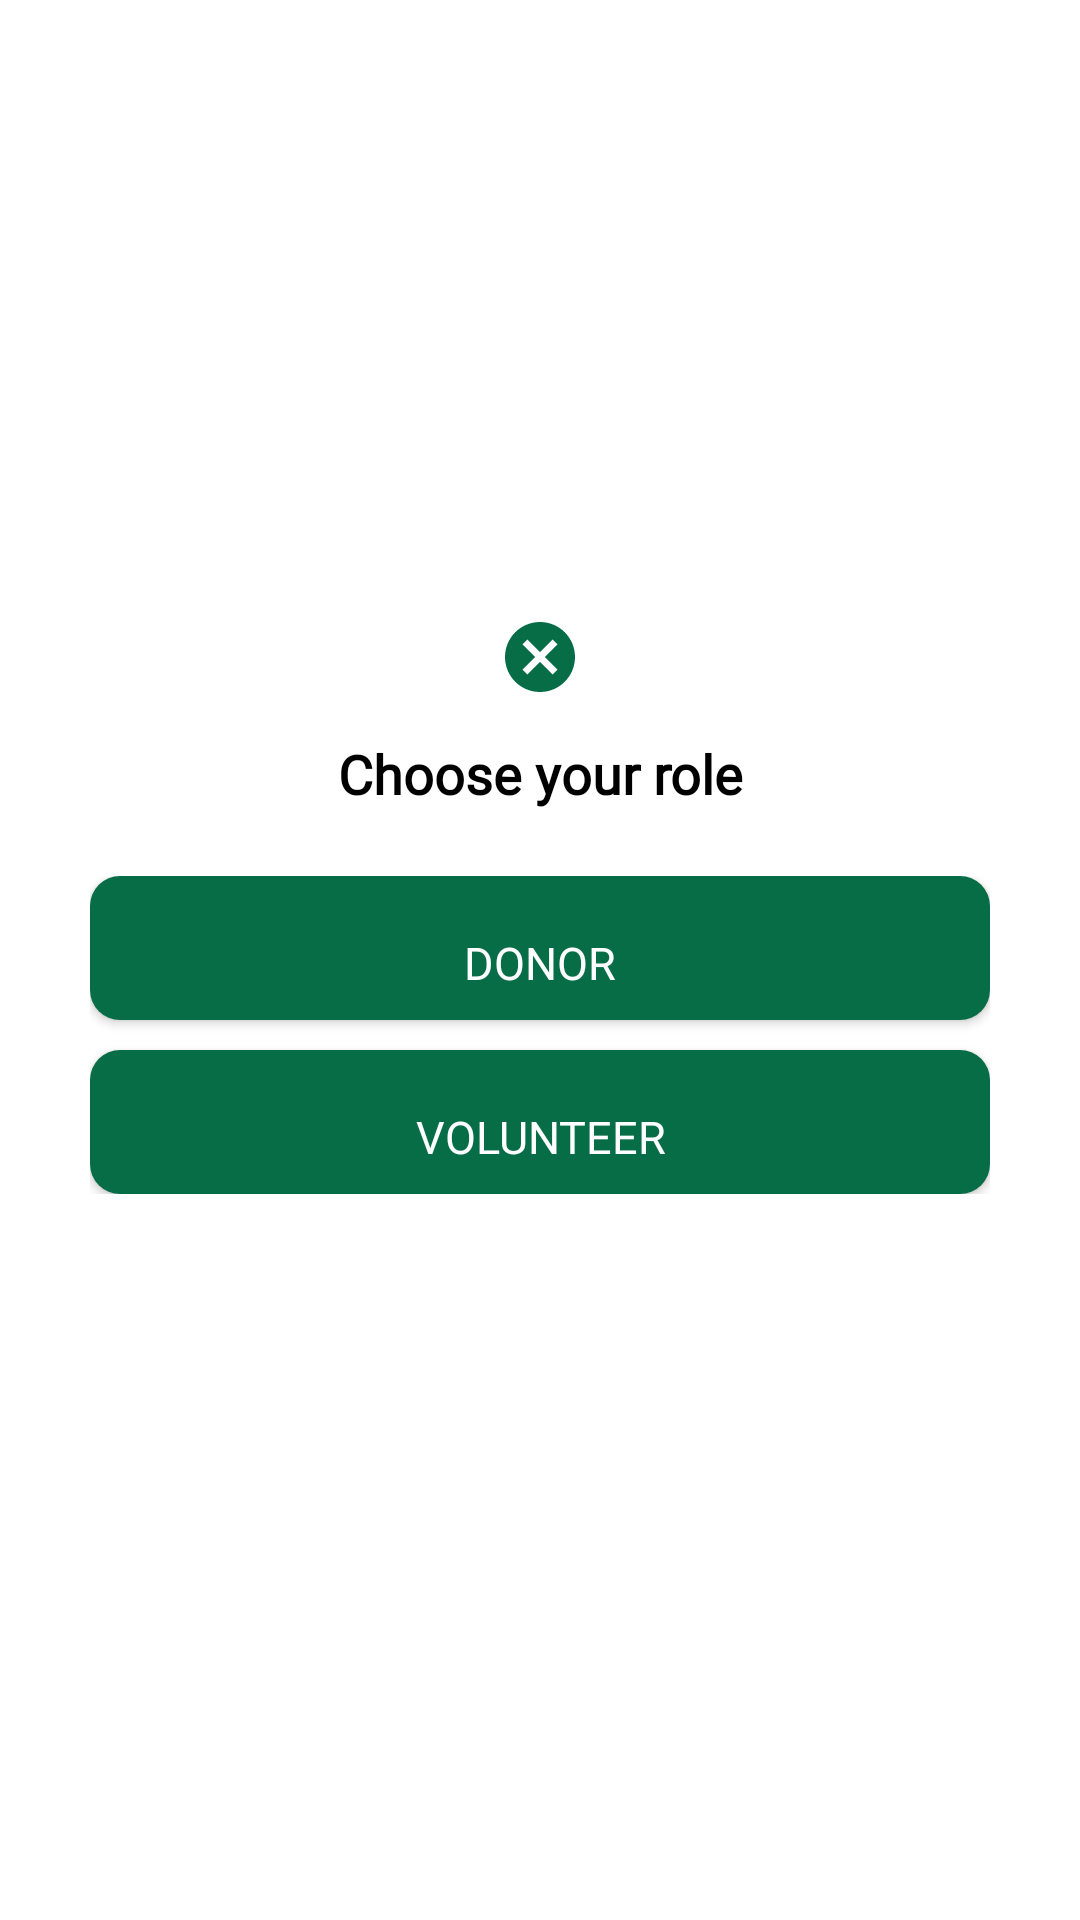

Point at icon controls on the screen. Image size 1080 × 1920, points as (x=x, y=y).
cancel: (x=540, y=657)
